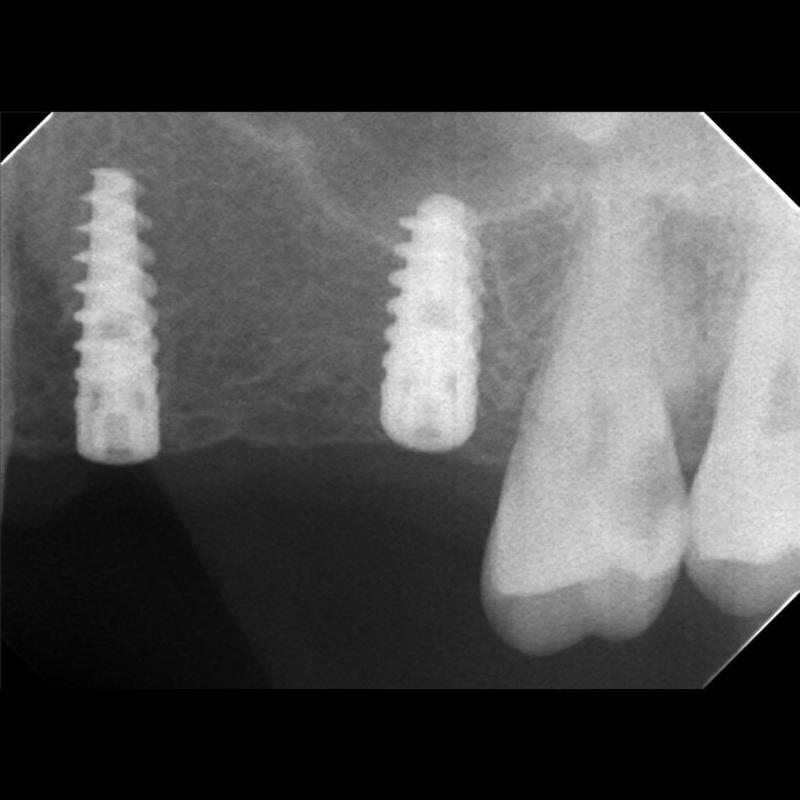ADIN: (76, 170, 176, 474), (378, 195, 488, 453)
